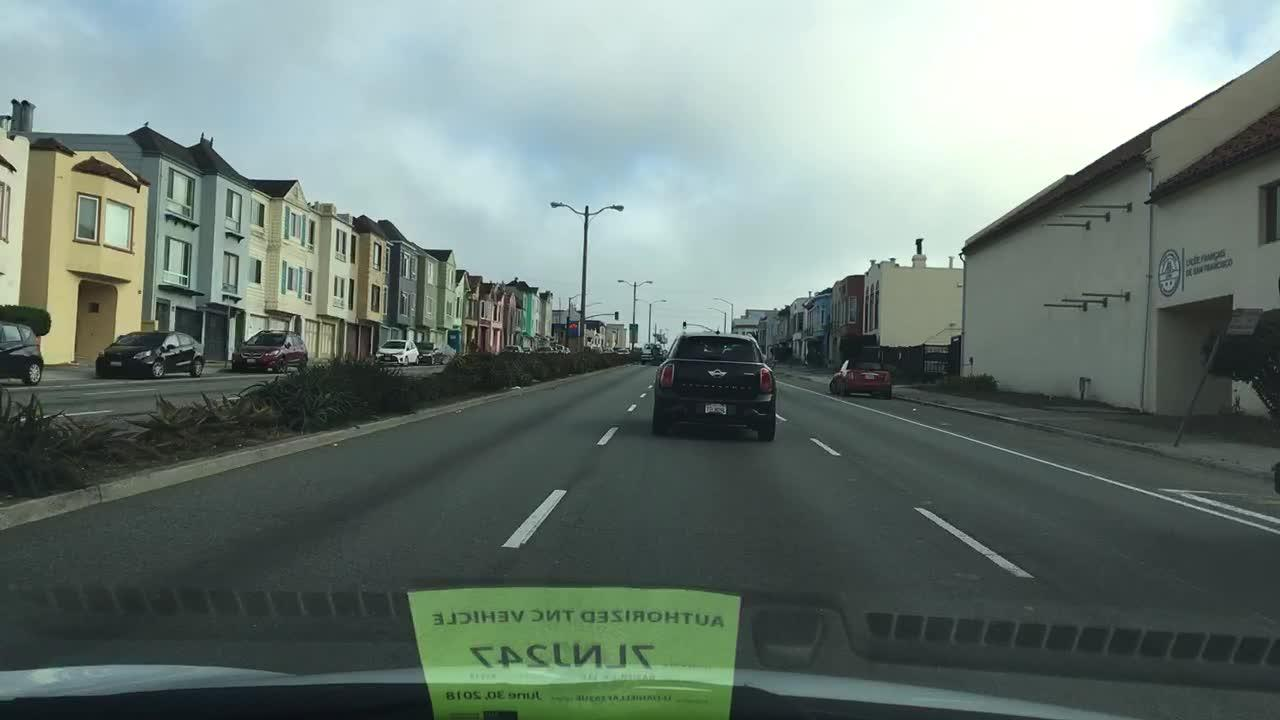mini: (707, 366, 727, 379)
